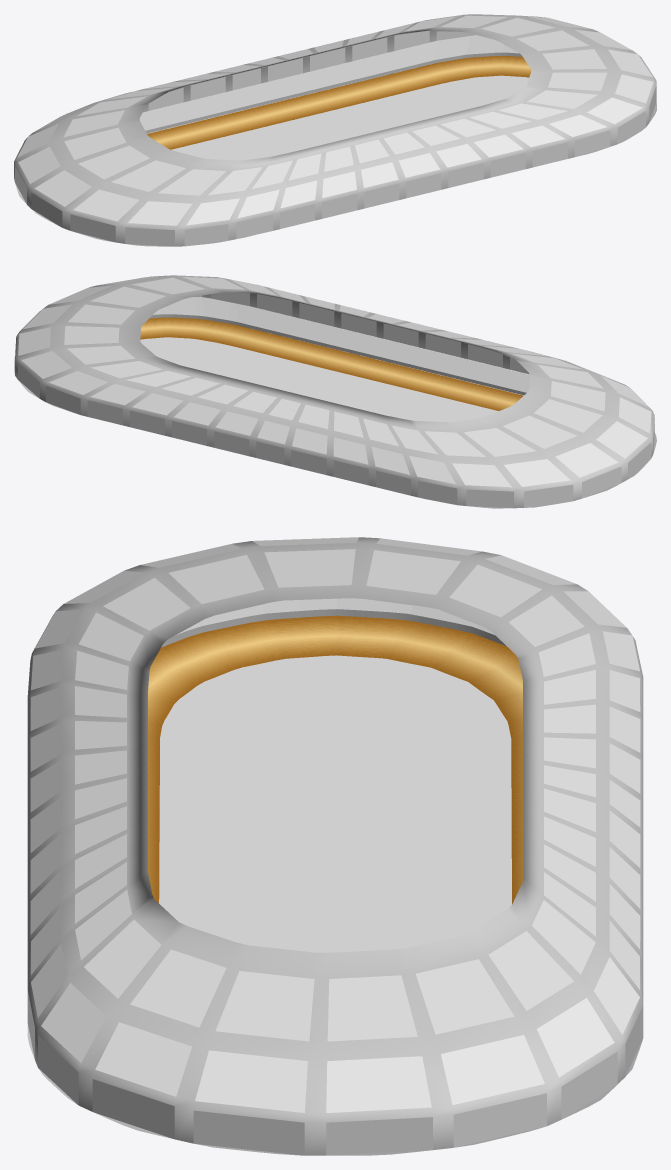
Rendered from EchelonDome.fbx.
The picture shows the model from 3 angles, top to bottom: view 1: azimuth 30°, elevation 25°; view 2: azimuth 150°, elevation 25°; view 3: azimuth 270°, elevation 25°; orthographic projection. The views are drawn at different scales.
Visible parts, largest first — view 1: DomeGlass.001, Dome.001, Inner, Track.001, Audience.001, AudienceWall.001; view 2: DomeGlass.001, Dome.001, Inner, Track.001, Audience.001, AudienceWall.001; view 3: DomeGlass.001, Dome.001, Inner, Track.001, InnerFlat, Audience.001, AudienceWall.001.
Boxes of the visible parts, bbox=[...] form: DomeGlass.001: bbox=[15, 15, 656, 246]; Dome.001: bbox=[14, 14, 656, 246]; Inner: bbox=[171, 78, 527, 160]; Track.001: bbox=[147, 55, 531, 149]; Audience.001: bbox=[15, 35, 656, 246]; AudienceWall.001: bbox=[145, 52, 522, 133]; DomeGlass.001: bbox=[18, 276, 654, 508]; Dome.001: bbox=[15, 275, 654, 508]; Inner: bbox=[143, 339, 498, 421]; Track.001: bbox=[140, 317, 523, 410]; Audience.001: bbox=[14, 297, 656, 508]; AudienceWall.001: bbox=[149, 314, 526, 395]; DomeGlass.001: bbox=[27, 537, 643, 1155]; Dome.001: bbox=[27, 537, 643, 1155]; Inner: bbox=[171, 665, 499, 952]; Track.001: bbox=[148, 615, 522, 904]; InnerFlat: bbox=[159, 655, 511, 914]; Audience.001: bbox=[27, 598, 642, 1155]; AudienceWall.001: bbox=[161, 609, 506, 647].
Size of the model in its own units: 18862 by 1728 by 8420.
